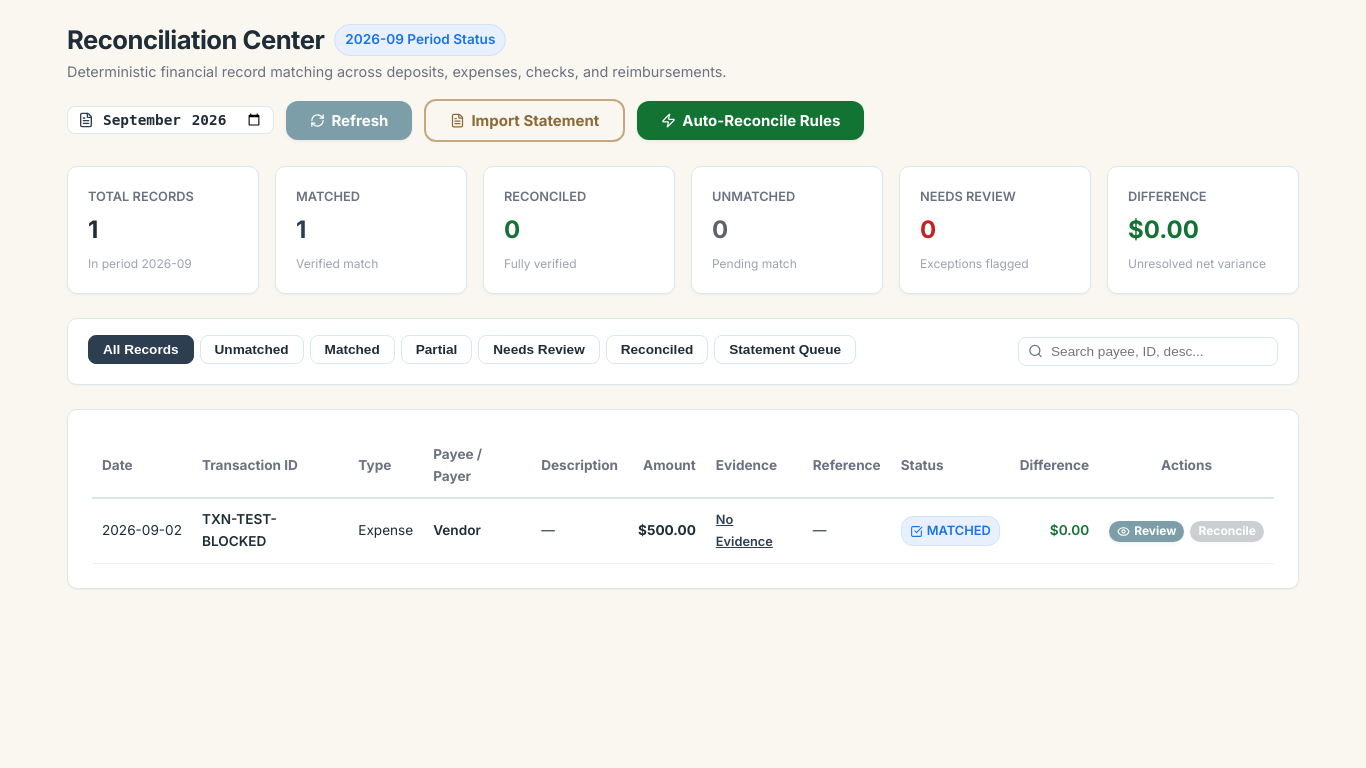
Scenario: Reconciliation UI Page & Modal Button Rendering Suite › renders visible disabled Reconcile button when status is MATCHED but rules are not satisfied
The width and height of the screenshot is (1366, 768).
Expected: the text "TXN-TEST-BLOCKED" is shown, [192,498,348,563]
Note: Open Review Modal
Click the button "Review".
click(1147, 531)  # box [1109,521,1184,542]
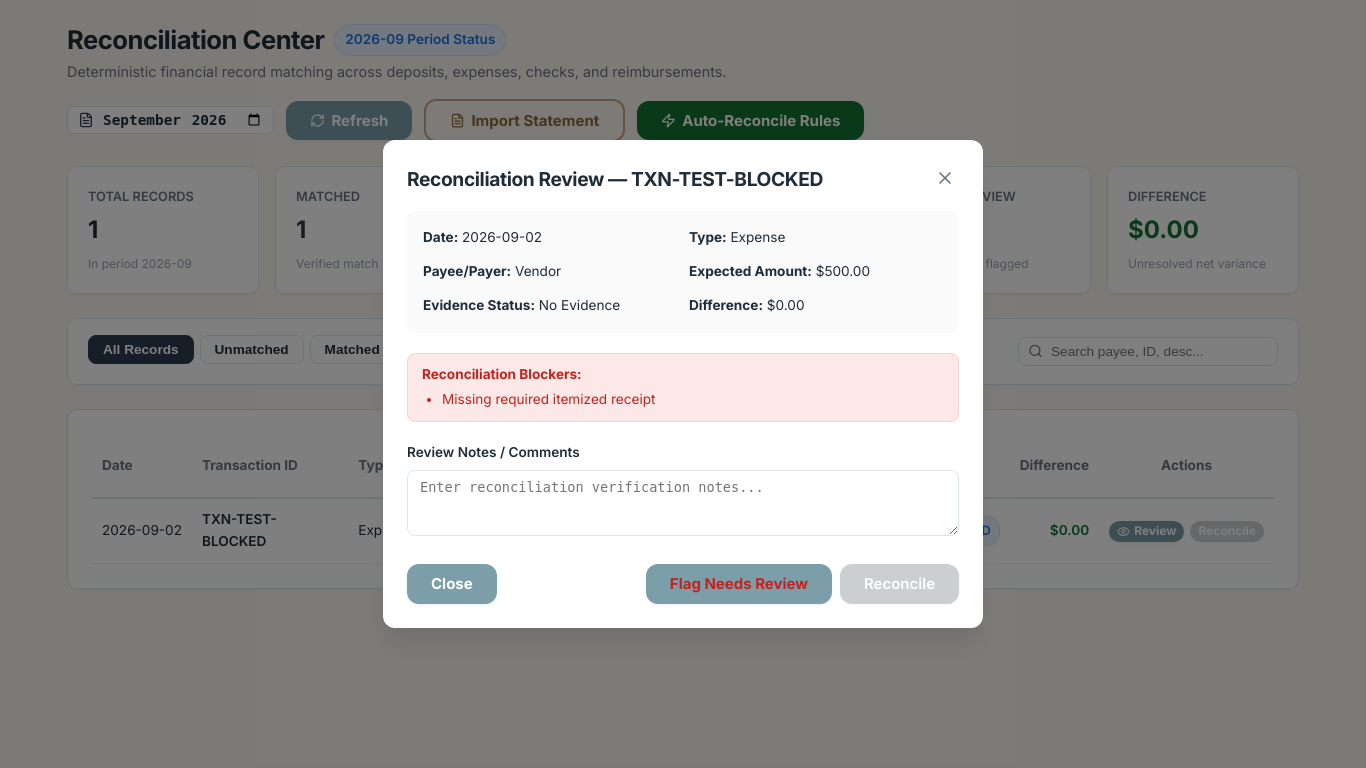
Expected: the button "Reconcile" below "Actions" is shown, [1190,521,1264,542]
Expected: the list item "Missing required itemized receipt" is shown, [442,392,656,408]
Expected: the button "Reconcile" is disabled, [840,564,959,604]
